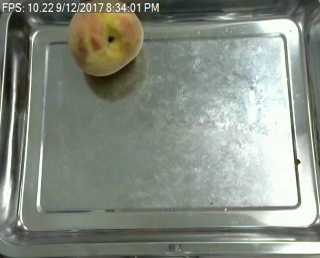Peach: (68, 0, 145, 77)
